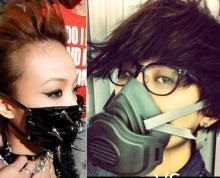face_mask: (100, 38, 201, 147), (9, 50, 82, 144)
